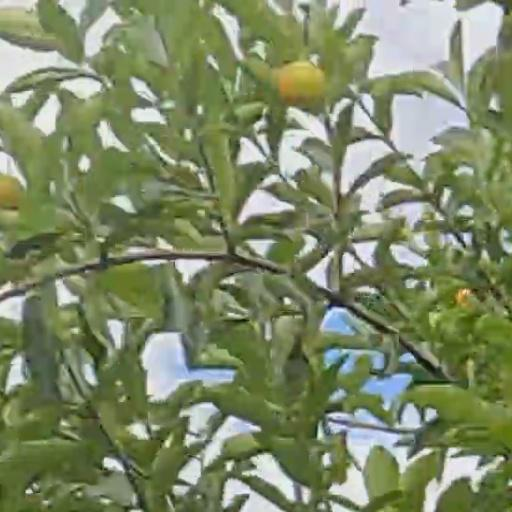acerola: (276, 60, 324, 109)
